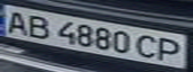0: (112, 28, 133, 55)
4: (51, 18, 78, 46)
8: (90, 25, 115, 52), (72, 21, 96, 48)
A: (0, 7, 33, 35)
B: (21, 12, 54, 39)
C: (133, 33, 163, 61)
P: (154, 35, 187, 62)
